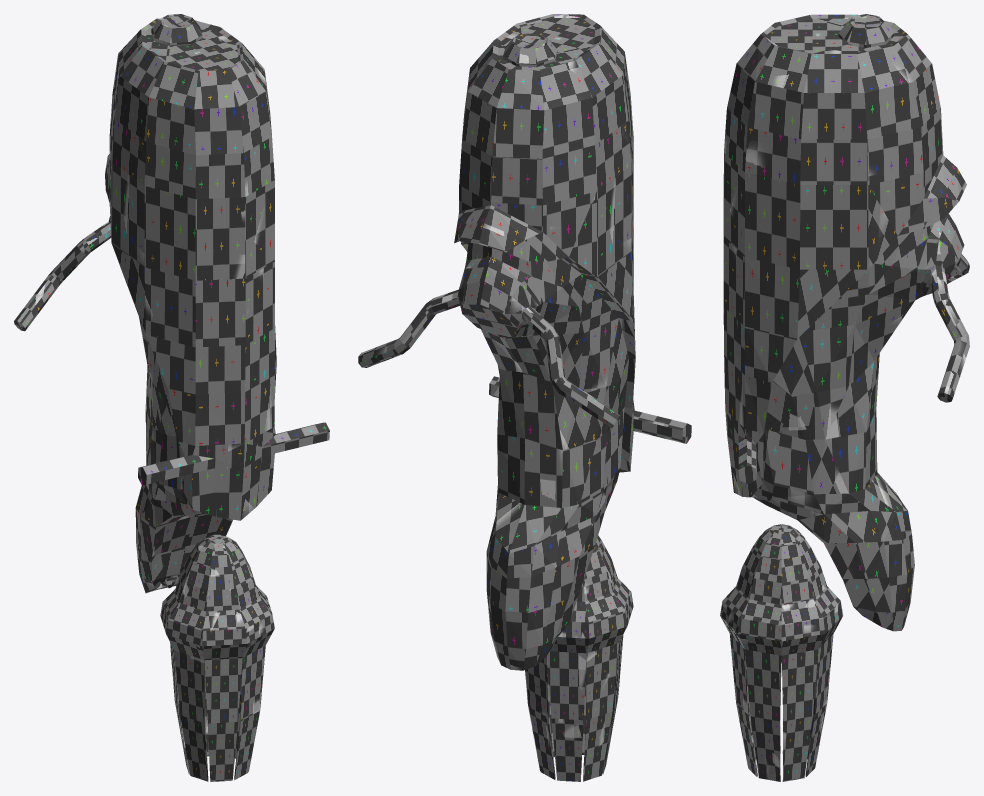
Rendered from bike_02.dae.
The picture shows the model from 3 angles, left to right: view 1: azimuth 30°, elevation 25°; view 2: azimuth 150°, elevation 25°; view 3: azimuth 270°, elevation 25°; orthographic projection. The views are drawn at different scales.
Parts seen in each view (by area): view 1: bike_02, mono_jet_02; view 2: bike_02, mono_jet_02; view 3: bike_02, mono_jet_02.
Part boxes in pixels (<box>): bike_02: <box>14,14,329,593</box>; mono_jet_02: <box>160,534,274,781</box>; bike_02: <box>358,14,691,670</box>; mono_jet_02: <box>525,535,633,781</box>; bike_02: <box>723,14,969,631</box>; mono_jet_02: <box>720,524,843,781</box>.
Size of the model in its own units: 0.9836 by 0.835 by 2.75.
Materials: 2 (2 with a texture image).
